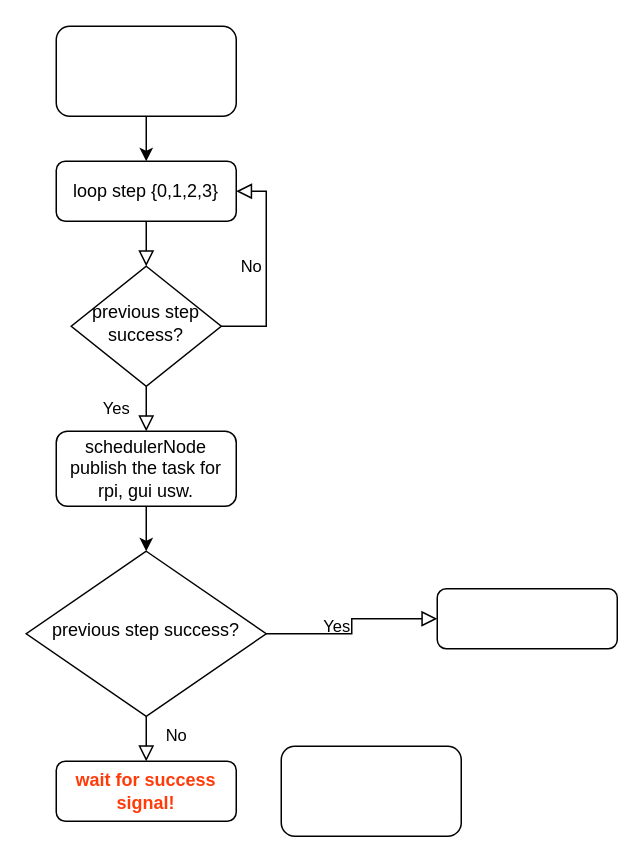
This 644x863 diagram has some shape labels left out. The centre of each missing label's shape, as x and y in pixels:
key: 2 glob vars: [370,790]
Replace Bulb: [526,618]
send goal: function_id = 50: [145,70]
